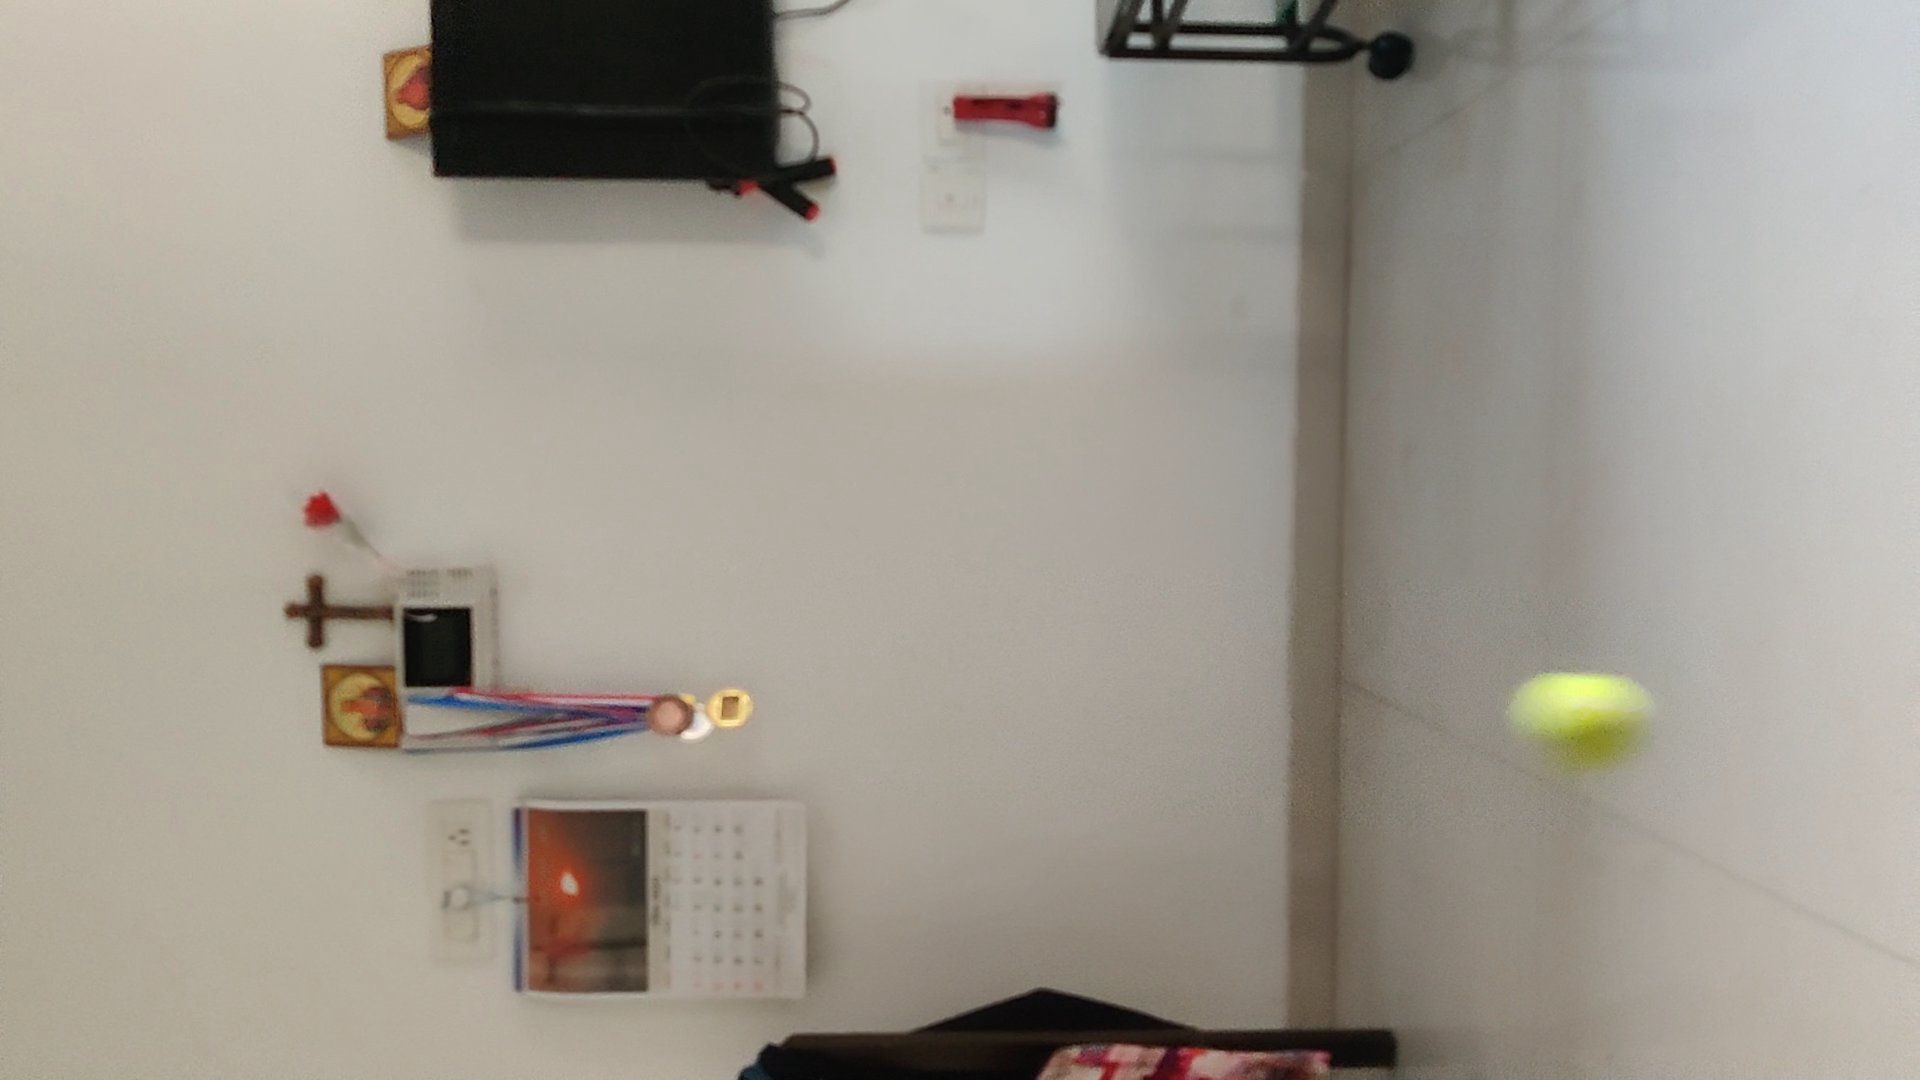Tennis-Ball: (1505, 667, 1655, 764)
